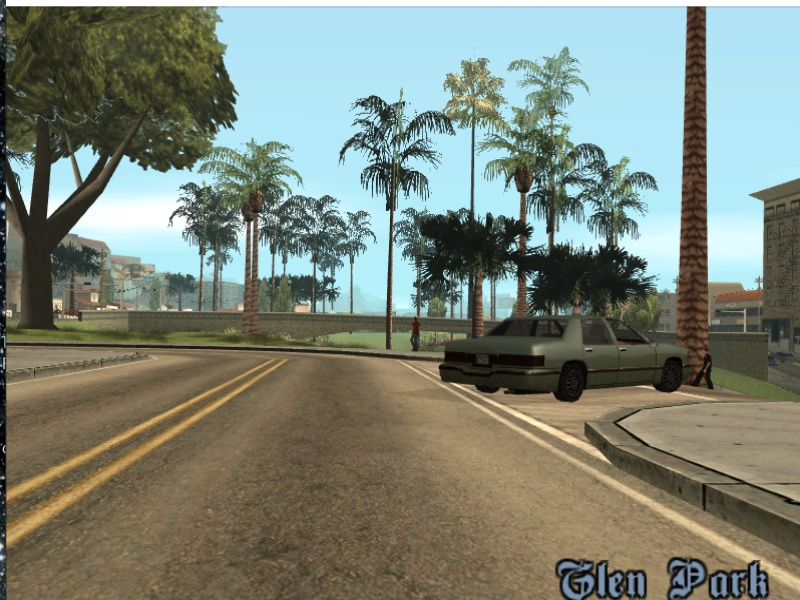person: (696, 349, 715, 390), (407, 319, 420, 354)
tree: (12, 151, 65, 328), (682, 9, 708, 361), (243, 215, 259, 337), (384, 193, 393, 351), (471, 266, 486, 338)
vehicle: (435, 308, 690, 417)
